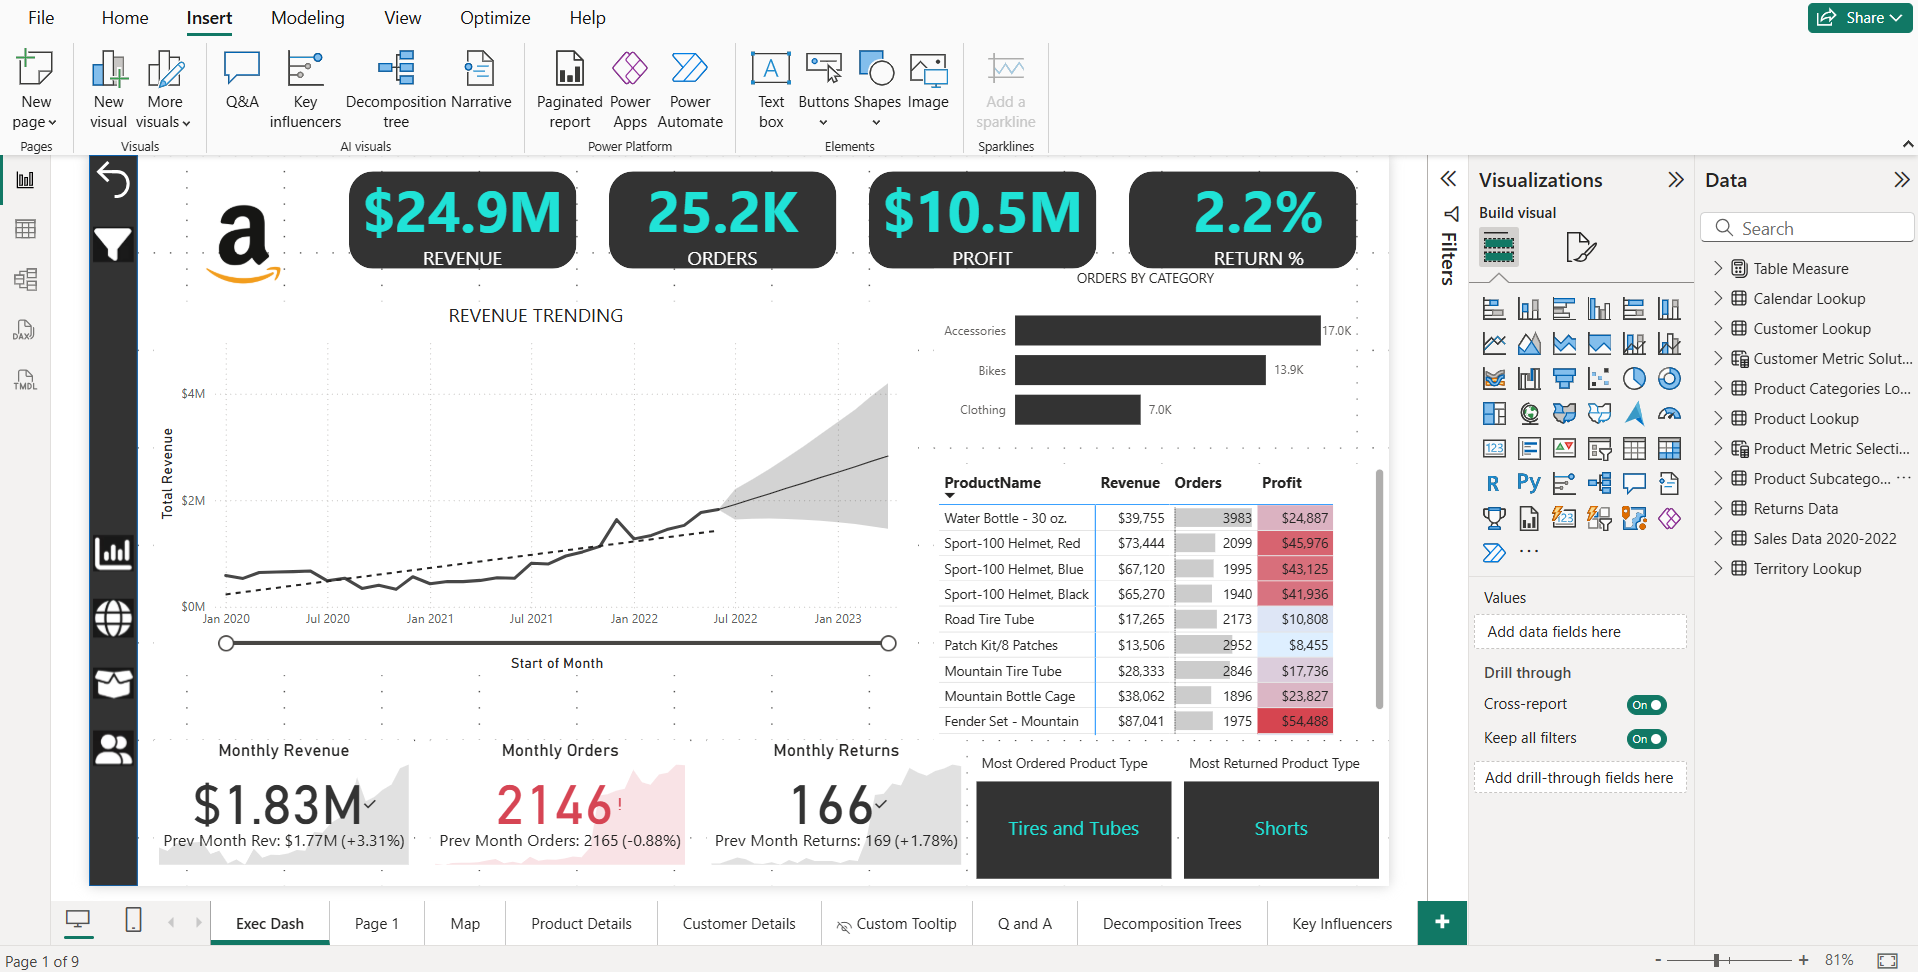

The dashboard page shown, as its layout file describes it:
{"tool":"powerbi","page":{"name":"Exec Dash","canvas":[1280,720],"ordinal":0},"visuals":[{"type":"shape","title":"Left Nav Bar","box":[0,0,48,720],"z":0},{"type":"shape","box":[96,0,112,112],"z":0,"group":"g6"},{"type":"card","fields":{"Values":["Table Measure.Total Revenue"]},"box":[240,0,256,128],"z":0,"group":"g3"},{"type":"group","id":"g1","title":"KPI Cards","box":[256,16,992,96],"z":0,"group":"g2"},{"type":"shape","box":[256,16,224,96],"z":0,"group":"g1"},{"type":"actionButton","box":[0,368,48,48],"z":0,"group":"g4"},{"type":"card","fields":{"Values":["Min(Product Subcategories Lookup.SubcategoryName)"]},"box":[832,608,209.3,96],"z":0,"group":"g5"},{"type":"image","box":[80,0,144,128],"z":1000,"group":"g6"},{"type":"group","id":"g2","title":"KPIs","box":[240,0,1040,128],"z":1000},{"type":"group","id":"g3","title":"KPI Values","box":[240,0,1040,128],"z":1000,"group":"g2"},{"type":"card","fields":{"Values":["Table Measure.Total Orders"]},"box":[496,0,256,128],"z":1000,"group":"g3"},{"type":"shape","box":[512,16,224,96],"z":1000,"group":"g1"},{"type":"actionButton","box":[0,432,48,48],"z":1000,"group":"g4"},{"type":"textbox","box":[832,576,209.3,32],"z":1000,"group":"g5"},{"type":"card","fields":{"Values":["Table Measure.Total Profit"]},"box":[752,0,256,128],"z":2000,"group":"g3"},{"type":"shape","box":[768,16,224,96],"z":2000,"group":"g1"},{"type":"actionButton","box":[0,496,48,48],"z":2000,"group":"g4"},{"type":"kpi","title":"Monthly Revenue","fields":{"Indicator":["Table Measure.Total Revenue"],"TrendLine":["Calendar Lookup.Start of Month"],"Goal":["Table Measure.Previous Month Revenue"]},"box":[64,576,240,128],"z":2000},{"type":"card","fields":{"Values":["Min(Product Subcategories Lookup.SubcategoryName)"]},"box":[1054.7,608,209.3,96],"z":2000,"group":"g5"},{"type":"card","fields":{"Values":["Table Measure.Return Rate"]},"box":[1024,0,256,128],"z":3000,"group":"g3"},{"type":"shape","box":[1024,16,224,96],"z":3000,"group":"g1"},{"type":"actionButton","box":[0,560,48,48],"z":3000,"group":"g4"},{"type":"kpi","title":"Monthly Orders","fields":{"TrendLine":["Calendar Lookup.Start of Month"],"Indicator":["Table Measure.Total Orders"],"Goal":["Table Measure.Previous Month Orders"]},"box":[320,576,240,128],"z":3000},{"type":"textbox","box":[1054.7,576,209.3,32],"z":3000,"group":"g5"},{"type":"kpi","title":"Monthly Returns","fields":{"TrendLine":["Calendar Lookup.Start of Month"],"Goal":["Table Measure.Previous Month Returns"],"Indicator":["Table Measure.Total Returns"]},"box":[576,576,240,128],"z":4000},{"type":"barChart","title":"ORDERS BY CATEGORY","fields":{"Category":["Product Categories Lookup.CategoryName"],"Y":["Table Measure.Total Orders"]},"box":[832,128,432,160],"z":5000},{"type":"pivotTable","fields":{"Rows":["Product Lookup.ProductName"],"Values":["Table Measure.Total Revenue","Table Measure.Total Orders","Table Measure.Total Profit"]},"box":[832,304,432,256],"z":6000},{"type":"actionButton","box":[0,0,48,48],"z":7000},{"type":"group","id":"g4","title":"Custom Navigation Buttons","box":[0,368,48,240],"z":8000},{"type":"actionButton","box":[0,64,48,48],"z":9000},{"type":"lineChart","title":"REVENUE TRENDING (FORECAST)","fields":{"Y":["Table Measure.Total Revenue"],"Category":["Calendar Lookup.Start of Year","Calendar Lookup.Start of Quarter","Calendar Lookup.Start of Month","Calendar Lookup.Start of Week"]},"box":[64,128,752,192],"z":11000},{"type":"lineChart","title":"REVENUE TRENDING (ANOMALIES)","fields":{"Y":["Table Measure.Total Revenue"],"Category":["Calendar Lookup.Start of Quarter"]},"box":[64,352,752,208],"z":12000},{"type":"group","id":"g5","title":"right bottom cards","box":[832,576,432,128],"z":13000},{"type":"group","id":"g6","title":"Icon","box":[80,0,144,128],"z":14000}]}

Visuals, with their boxes on the page's 1280x720 design canvas (x1, y1, x2, y2). These are canvas units, not pixel positions in the 1918x972 screenshot, which may show the page scaled, cropped or inside an application window:
"Left Nav Bar" shape: 0 0 48 720
shape: 96 0 208 112
card - Table Measure.Total Revenue: 240 0 496 128
"KPI Cards" group: 256 16 1248 112
shape: 256 16 480 112
actionButton: 0 368 48 416
card - Min(Product Subcategories Lookup.SubcategoryName): 832 608 1041 704
image: 80 0 224 128
"KPIs" group: 240 0 1280 128
"KPI Values" group: 240 0 1280 128
card - Table Measure.Total Orders: 496 0 752 128
shape: 512 16 736 112
actionButton: 0 432 48 480
textbox: 832 576 1041 608
card - Table Measure.Total Profit: 752 0 1008 128
shape: 768 16 992 112
actionButton: 0 496 48 544
"Monthly Revenue" kpi: 64 576 304 704
card - Min(Product Subcategories Lookup.SubcategoryName): 1055 608 1264 704
card - Table Measure.Return Rate: 1024 0 1280 128
shape: 1024 16 1248 112
actionButton: 0 560 48 608
"Monthly Orders" kpi: 320 576 560 704
textbox: 1055 576 1264 608
"Monthly Returns" kpi: 576 576 816 704
"ORDERS BY CATEGORY" barChart: 832 128 1264 288
pivotTable - Product Lookup.ProductName x Table Measure.Total Revenue: 832 304 1264 560
actionButton: 0 0 48 48
"Custom Navigation Buttons" group: 0 368 48 608
actionButton: 0 64 48 112
"REVENUE TRENDING (FORECAST)" lineChart: 64 128 816 320
"REVENUE TRENDING (ANOMALIES)" lineChart: 64 352 816 560
"right bottom cards" group: 832 576 1264 704
"Icon" group: 80 0 224 128
